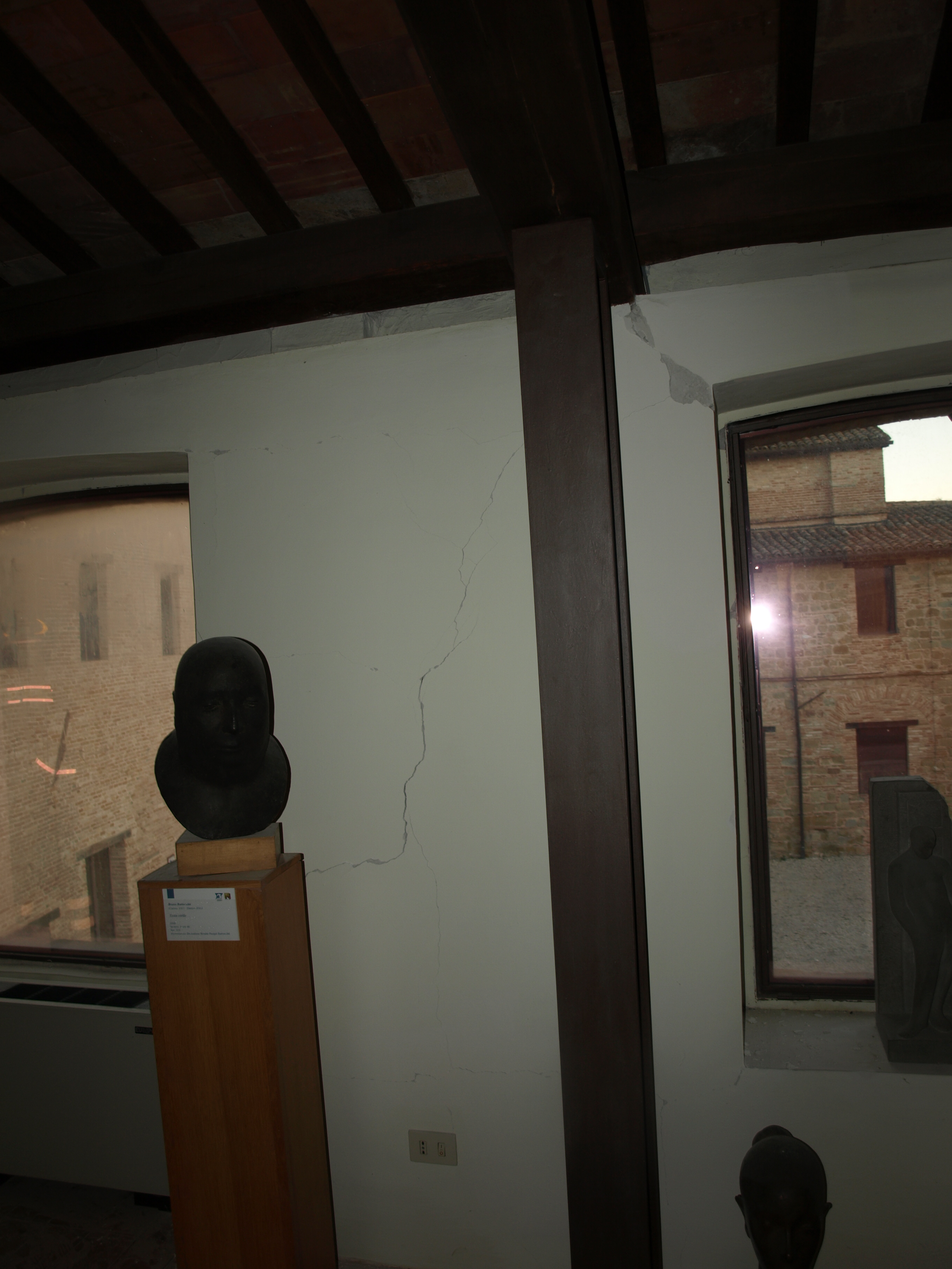Crack: (141, 342, 743, 1052)
